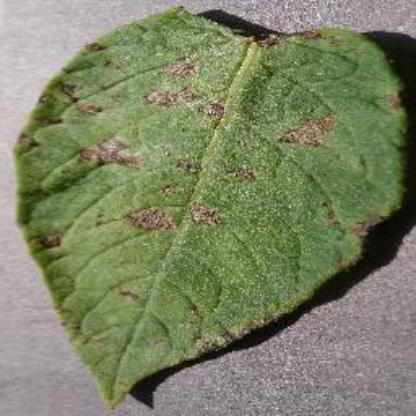Early-Blight: (12, 3, 416, 407)
